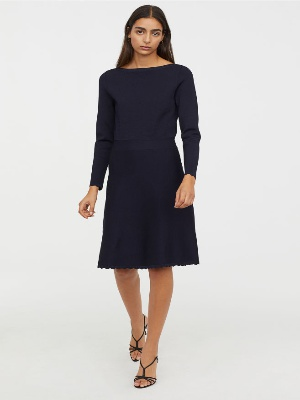dress: (94, 54, 205, 272)
hand: (166, 65, 204, 212), (80, 64, 111, 218)
torso: (92, 55, 201, 148)
